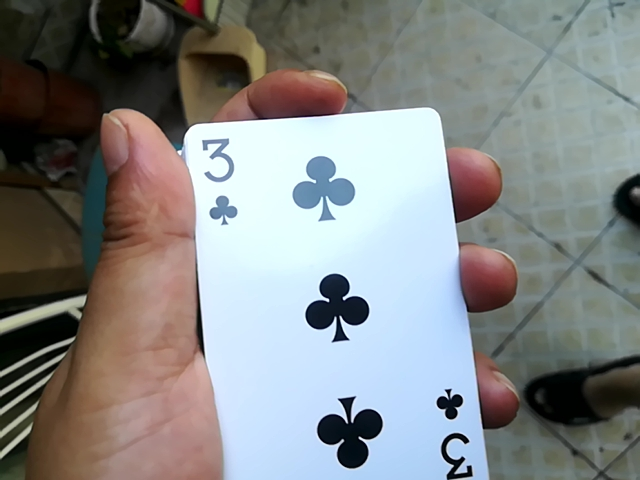mh 3: (183, 100, 462, 477)
